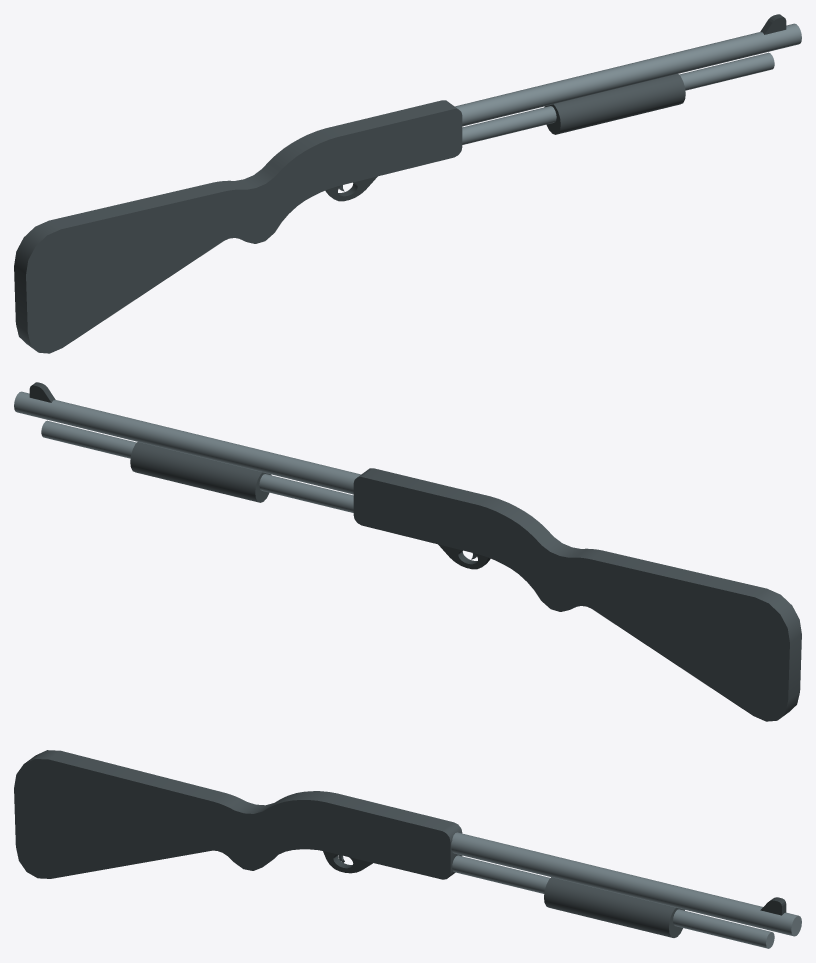
The model's file is Shotgun.fbx.
3 renders of one model, top to bottom at view 1: azimuth 30°, elevation 25°; view 2: azimuth 150°, elevation 25°; view 3: azimuth 330°, elevation 25°, orthographic.
Visible parts, largest first — view 1: Shotgun; view 2: Shotgun; view 3: Shotgun.
Part boxes in pixels (x1,y1,x2,y2): Shotgun: (14, 14, 801, 353); Shotgun: (14, 382, 801, 721); Shotgun: (14, 750, 801, 948).
Size of the model in its own units: 1.77 by 0.3345 by 0.0666.
